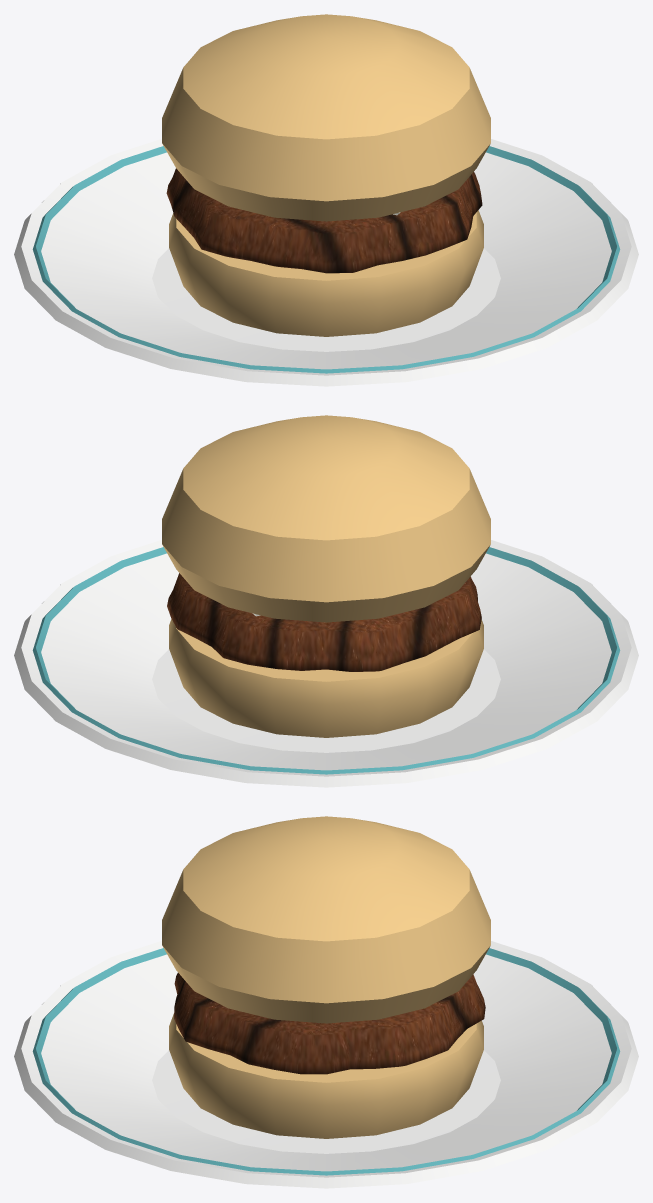
The model's file is kr_p_bun_patty.glb.
The picture shows the model from 3 angles, top to bottom: view 1: azimuth 30°, elevation 25°; view 2: azimuth 150°, elevation 25°; view 3: azimuth 270°, elevation 25°; orthographic projection.
Visible parts, largest first — view 1: vc_m0_r4, vc_m0_r2, kr_p_bun_patty_f_ground_cooked; view 2: vc_m0_r4, vc_m0_r2, kr_p_bun_patty_f_ground_cooked; view 3: vc_m0_r4, vc_m0_r2, kr_p_bun_patty_f_ground_cooked.
Boxes of the visible parts, box(x1,y1,x2,y2) form: vc_m0_r4: box(32, 14, 620, 373); vc_m0_r2: box(14, 139, 638, 386); kr_p_bun_patty_f_ground_cooked: box(166, 168, 482, 273); vc_m0_r4: box(32, 415, 620, 774); vc_m0_r2: box(14, 540, 638, 787); kr_p_bun_patty_f_ground_cooked: box(167, 573, 481, 671); vc_m0_r4: box(32, 816, 620, 1175); vc_m0_r2: box(14, 941, 638, 1188); kr_p_bun_patty_f_ground_cooked: box(174, 973, 485, 1074).
Size of the model in its own units: 0.43 by 0.2 by 0.43.
Materials: 4 (1 with a texture image).
